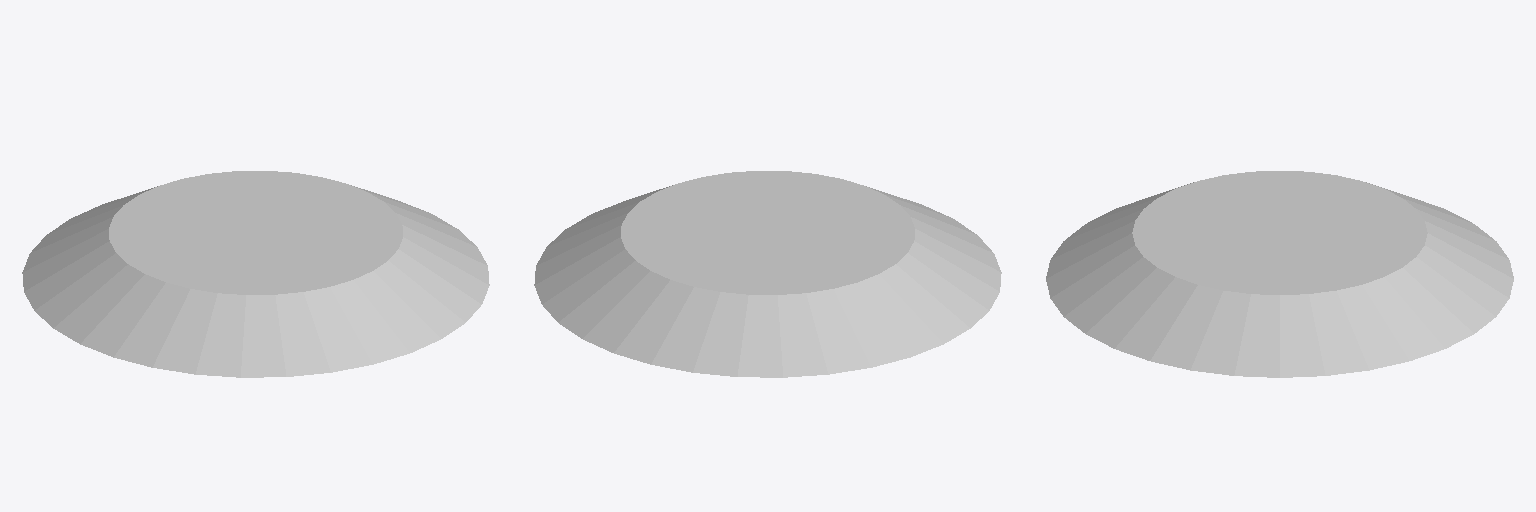
File: plot.obj
3 views of the same model, side by side, from view 1: azimuth 30°, elevation 25°; view 2: azimuth 150°, elevation 25°; view 3: azimuth 270°, elevation 25° (orthographic).
Size of the model in its own units: 4.43 by 0.4818 by 4.43.